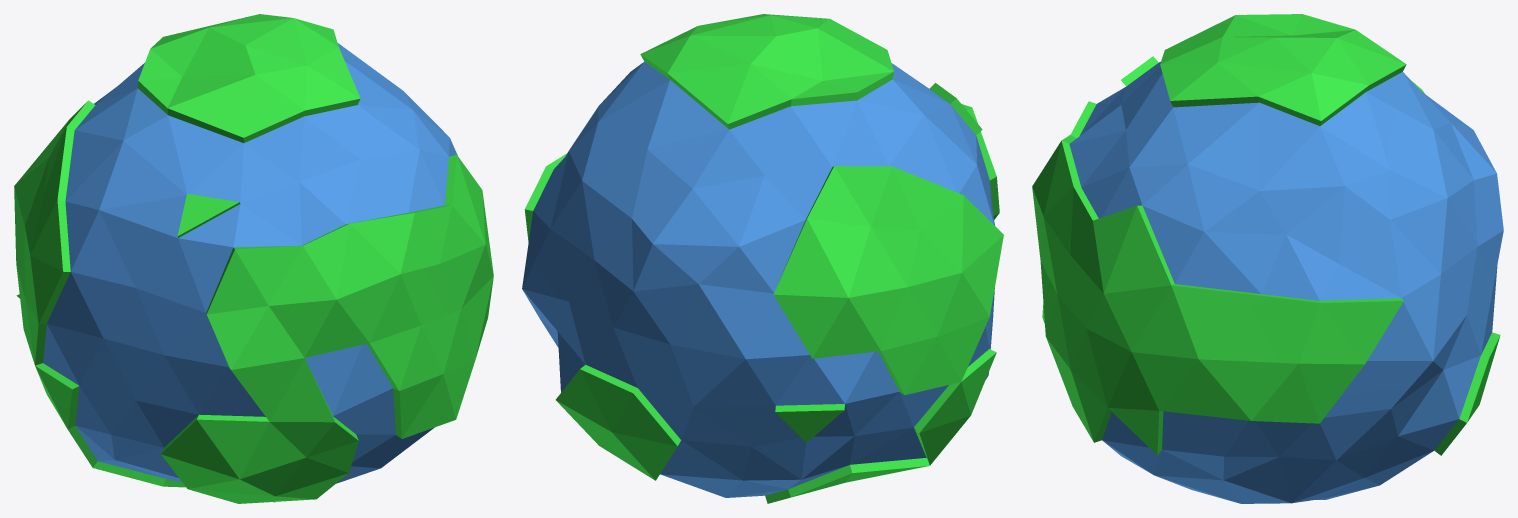
File: earth.glb
The picture shows the model from 3 angles, left to right: view 1: azimuth 30°, elevation 25°; view 2: azimuth 150°, elevation 25°; view 3: azimuth 270°, elevation 25°; orthographic projection.
Parts seen in each view (by area): view 1: Earth_Icosphere; view 2: Earth_Icosphere; view 3: Earth_Icosphere.
Boxes of the visible parts, x1,y1,x2,y2 form: Earth_Icosphere: (14, 14, 493, 503); Earth_Icosphere: (522, 14, 1003, 503); Earth_Icosphere: (1032, 14, 1503, 503).
Size of the model in its own units: 2.05 by 2.05 by 1.94.
